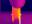Hotspot: (12, 6, 21, 23)
